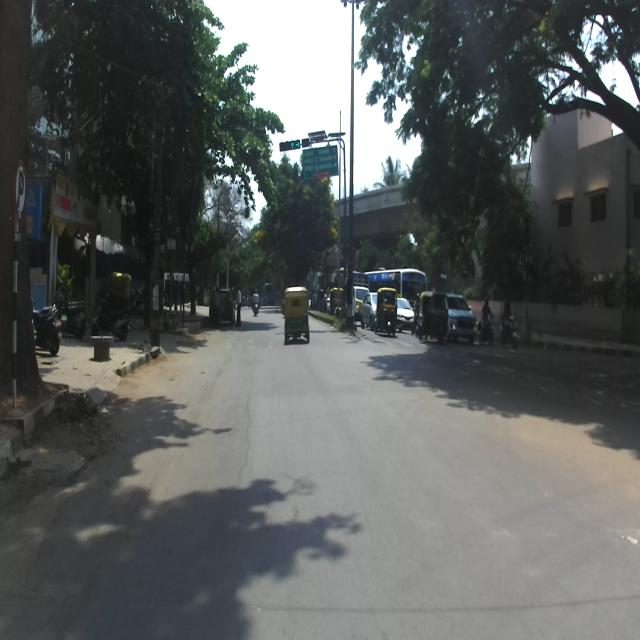auto ahead at: (283, 285, 312, 347)
sign board ahead at: (8, 147, 31, 223)
